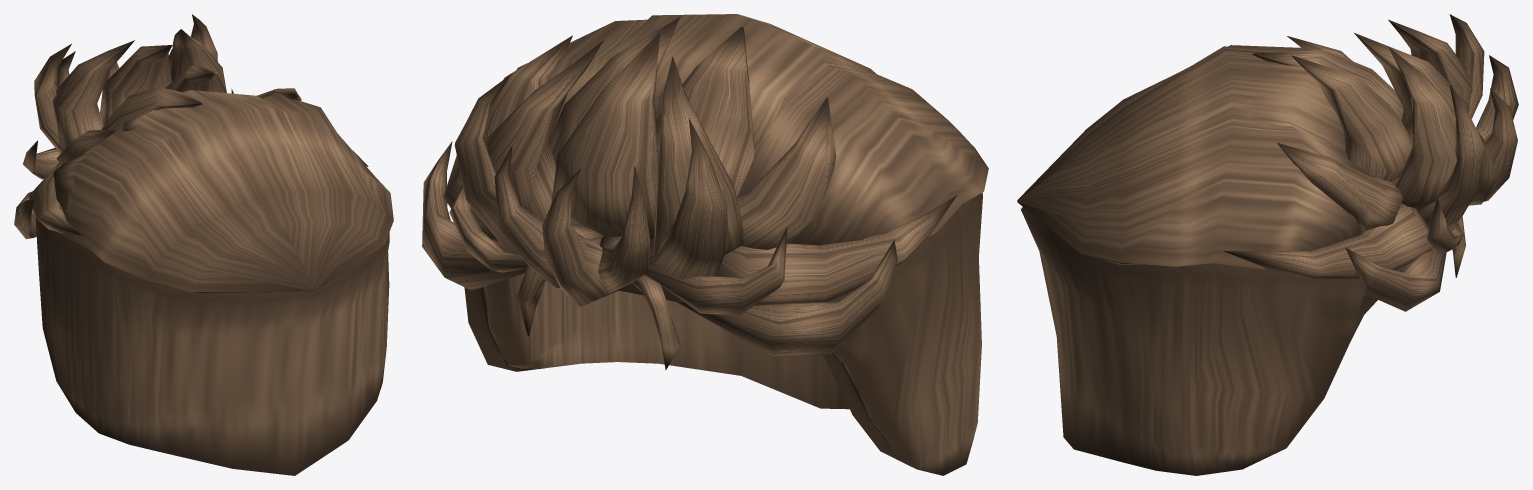
The picture shows the model from 3 angles, left to right: view 1: azimuth 30°, elevation 25°; view 2: azimuth 150°, elevation 25°; view 3: azimuth 270°, elevation 25°; orthographic projection. The views are drawn at different scales.
Parts seen in each view (by area): view 1: geometry_0; view 2: geometry_0; view 3: geometry_0.
Part boxes in pixels (left/top/right/bottom): geometry_0: left=14, top=14, right=393, bottom=475; geometry_0: left=422, top=14, right=988, bottom=475; geometry_0: left=1017, top=14, right=1518, bottom=475.
Bounding box in the file's own units: 1.28 × 1.37 × 1.54.
1 material, 1 textured.
